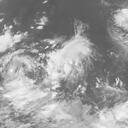cyclone: (45, 37, 89, 87)
